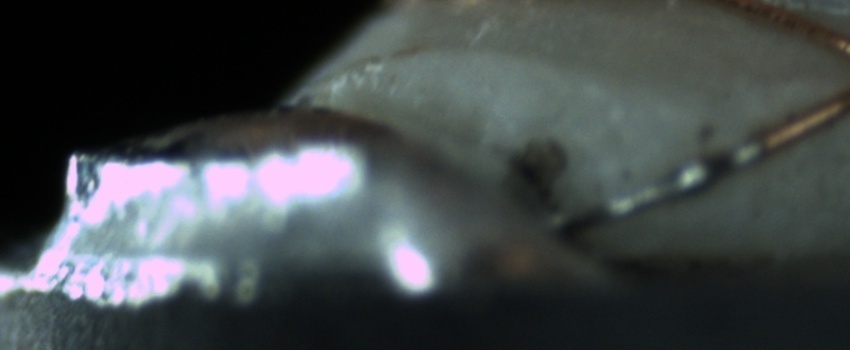TB: (665, 156, 719, 199)
TS: (543, 131, 753, 235)
TTCW: (541, 116, 798, 230)
